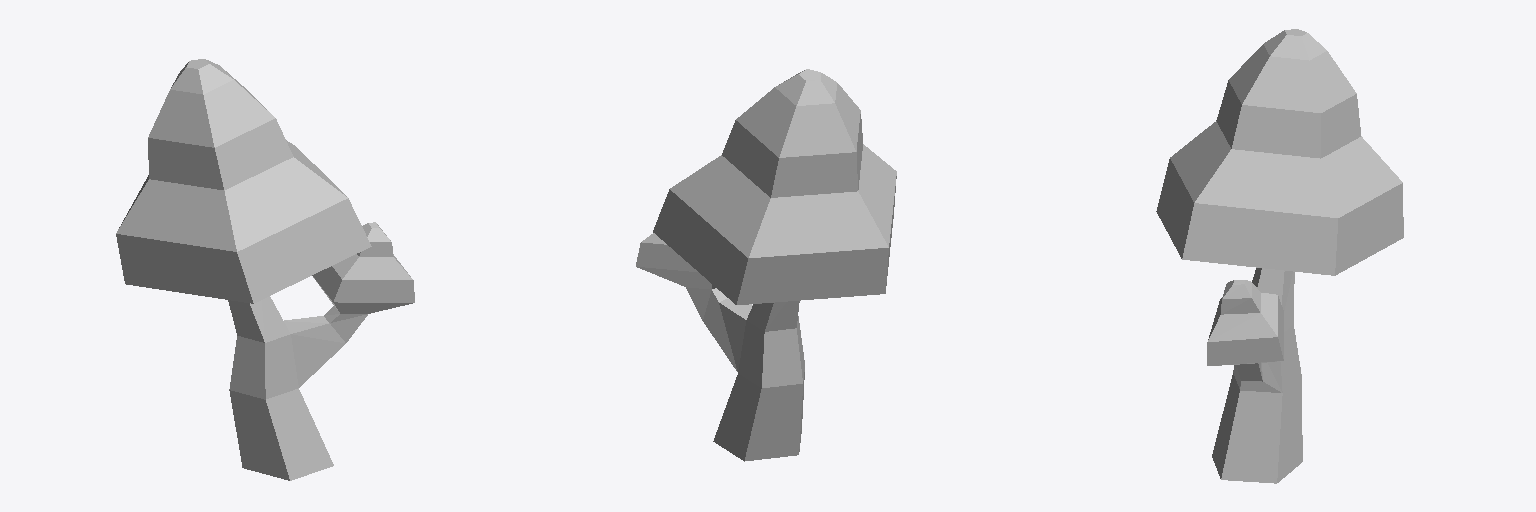
Rendered from smallmushroom2.obj.
3 views of the same model, side by side, from view 1: azimuth 30°, elevation 25°; view 2: azimuth 150°, elevation 25°; view 3: azimuth 270°, elevation 25° (orthographic).
Bounding box in the file's own units: 0.6322 × 0.9264 × 0.5187.